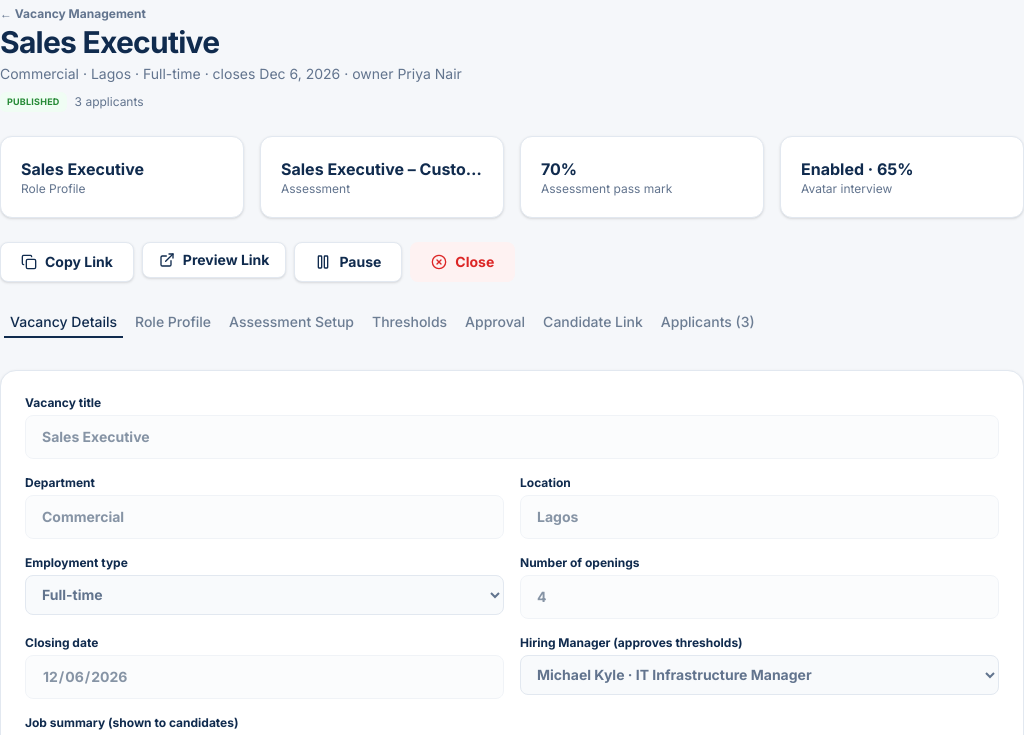
Scenario: Vacancy Management screens › shows a published vacancy's link and applicants
The image size is (1024, 735).
Expected: the button "Copy Link" is shown, [0,242,134,282]
Click the tab "Candidate Link".
click(593, 322)  # box [536,309,650,334]
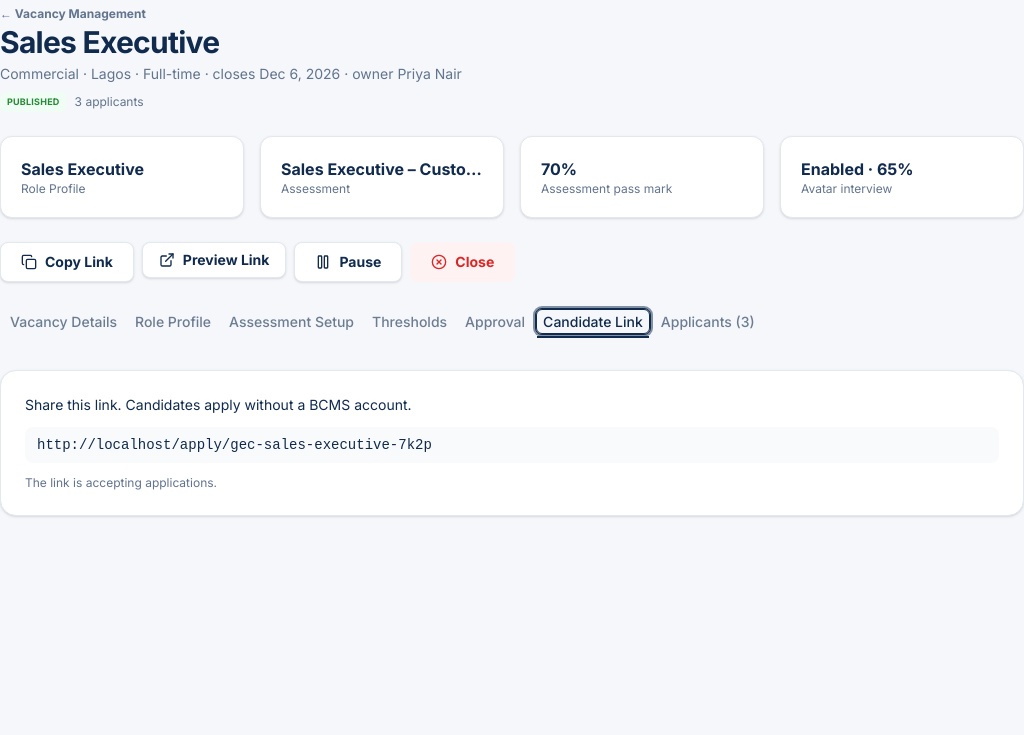
Now the text named "Application link" shows "/apply/gec-sales-executive-7k2p", box [37,436,432,452]
Click the tab "Applicants (3)".
click(708, 322)  # box [654,309,762,334]
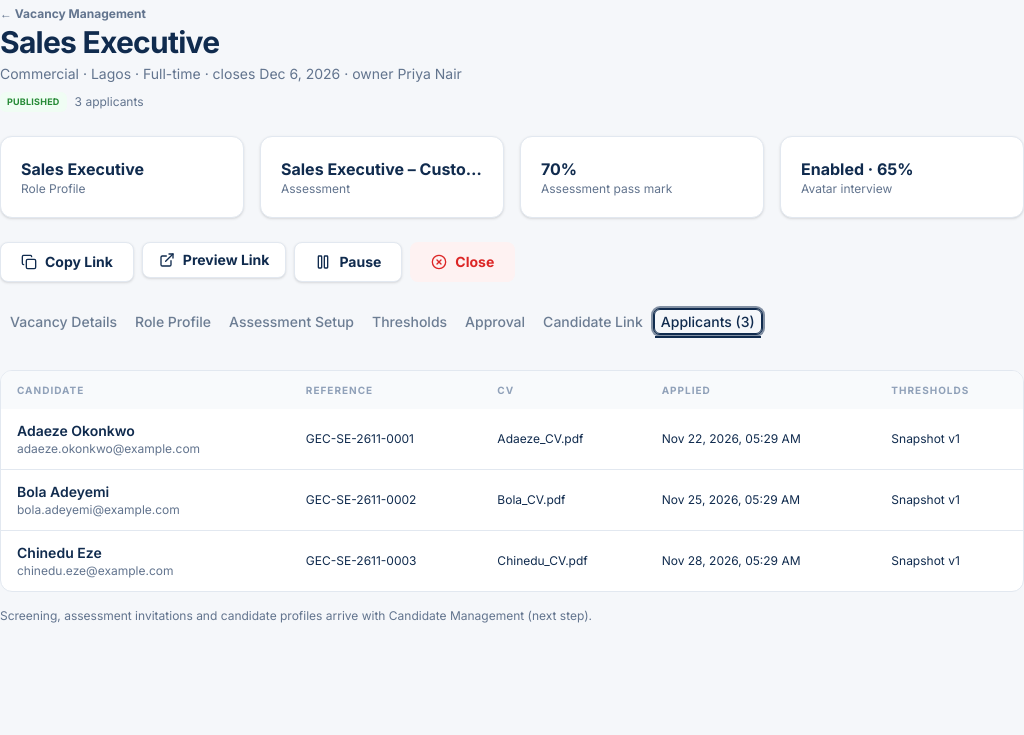
Now the text "Adaeze Okonkwo" is shown, box [17,422,135,439]
